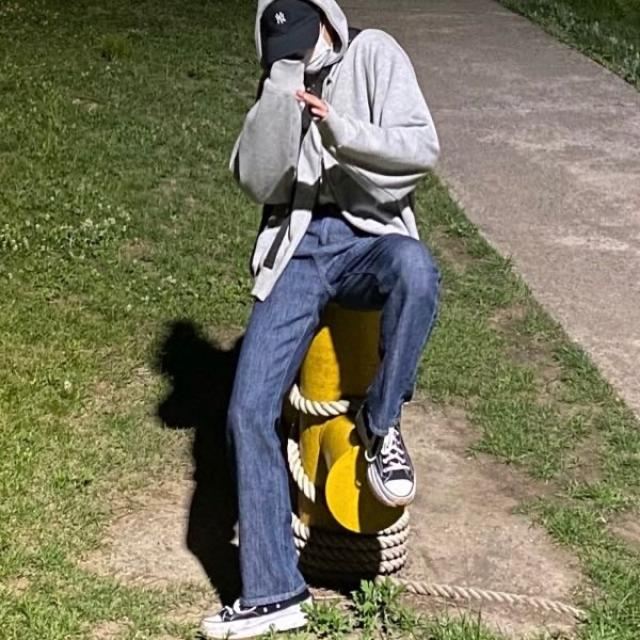denimpants: (224, 197, 436, 600)
zipup: (231, 0, 434, 306)
